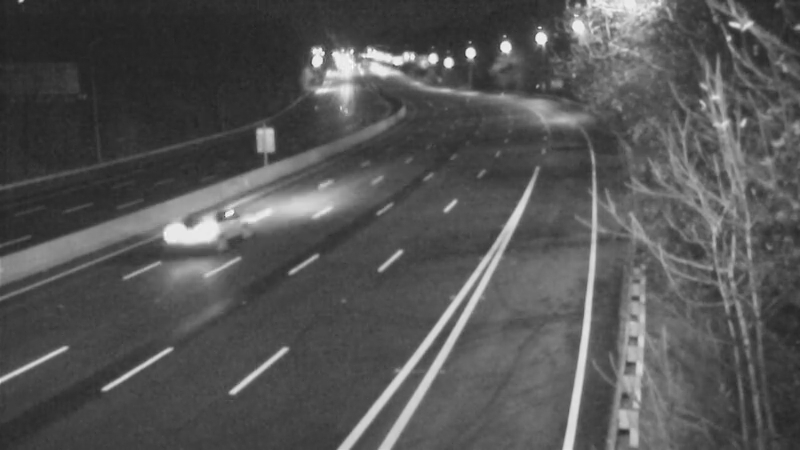vehicle: (150, 187, 230, 267)
